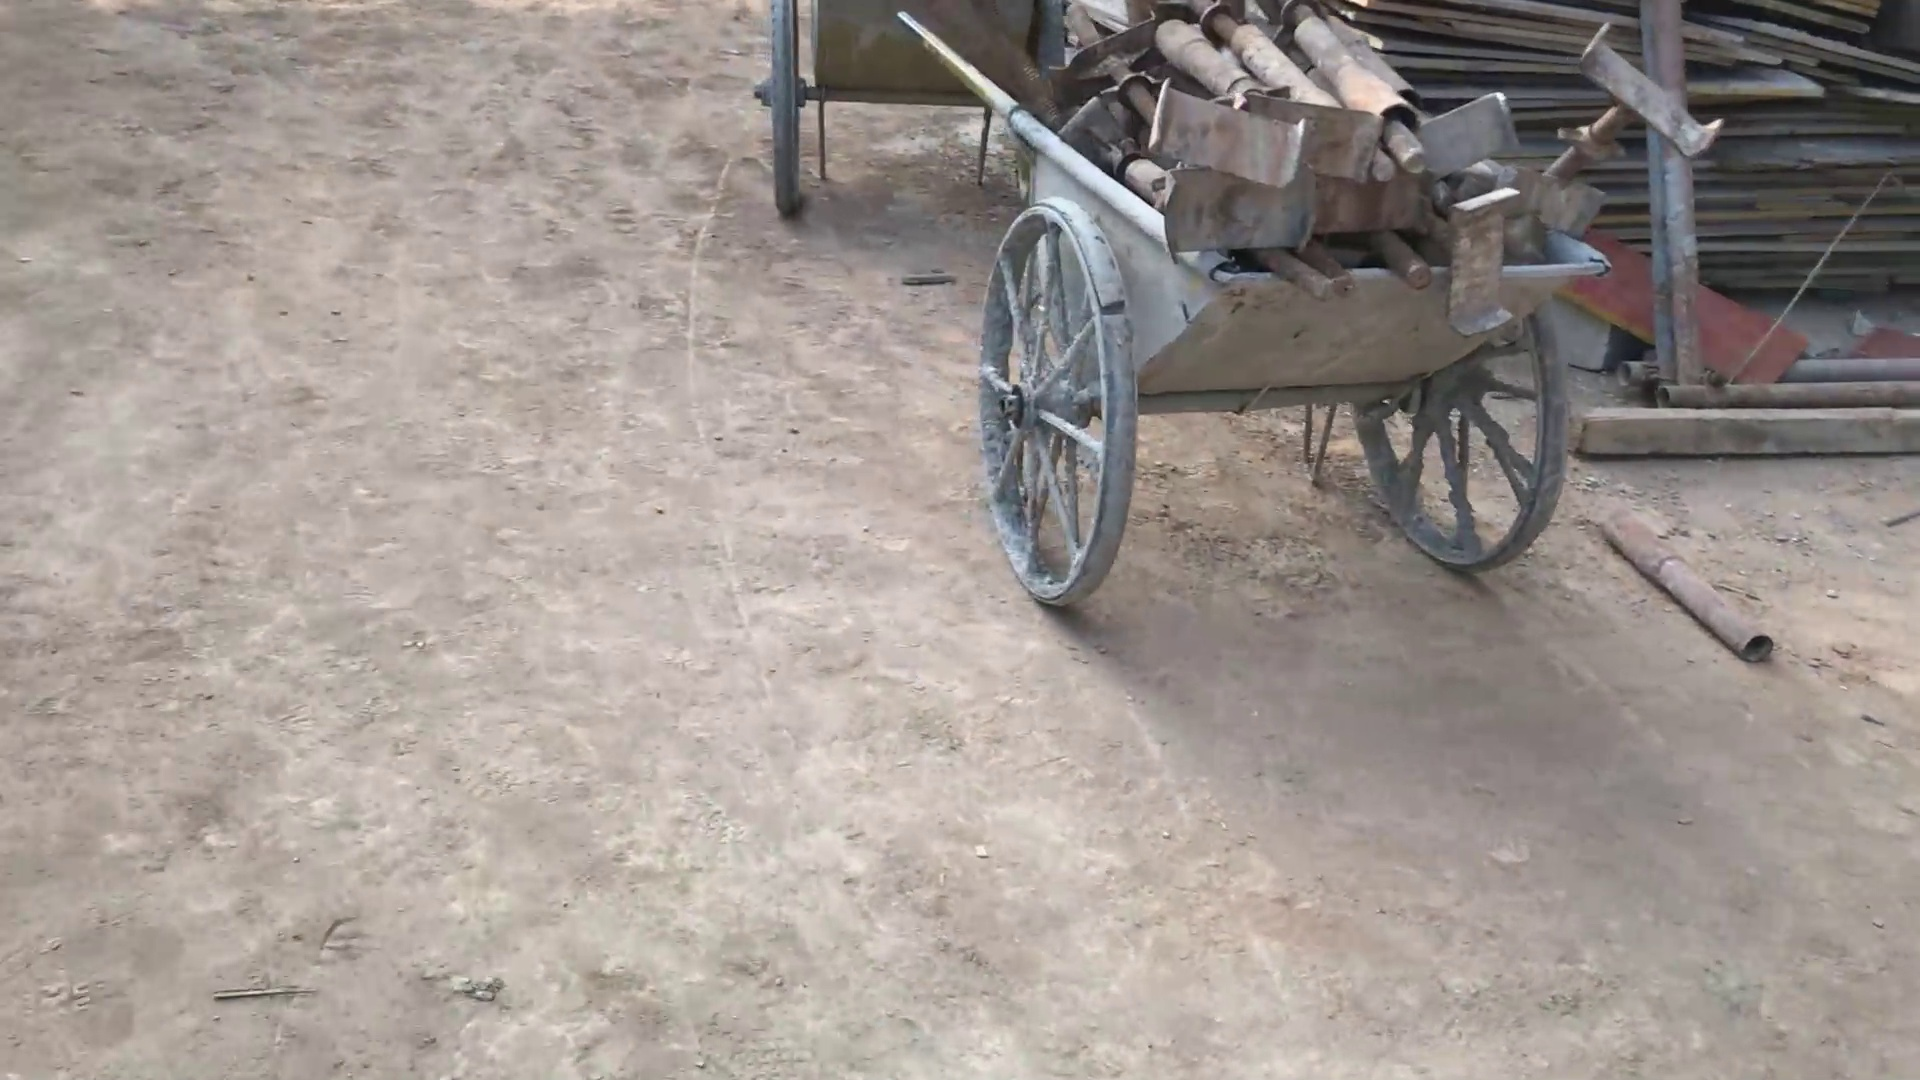board: (1400, 1, 1920, 295)
handcart: (891, 1, 1614, 611), (750, 1, 1077, 222)
